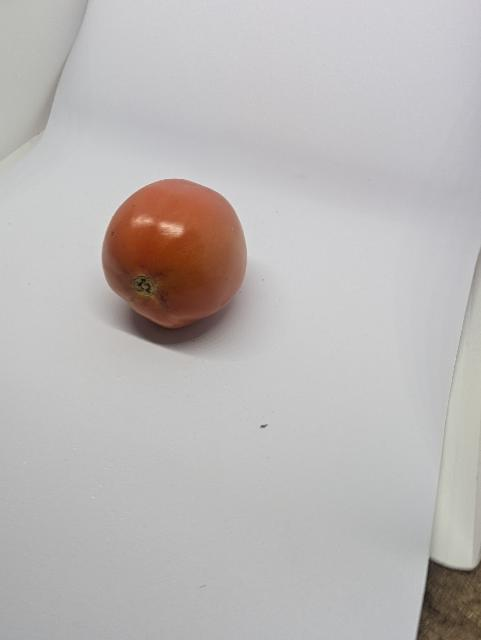red: (94, 170, 255, 336)
